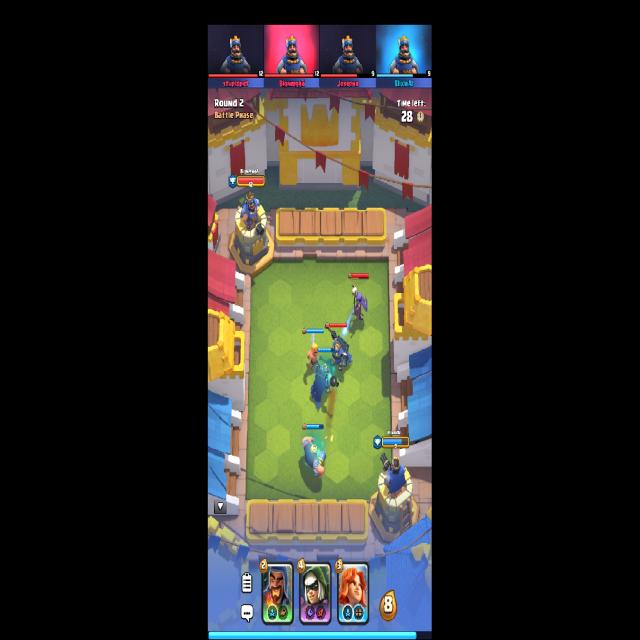barbarian: (307, 342, 320, 368)
card_bandit: (299, 562, 332, 625)
card_valkyrie: (338, 562, 369, 624)
card_wizard: (262, 562, 294, 623)
royal_giant: (302, 436, 326, 480)
skeleton_king: (326, 324, 352, 370), (313, 365, 337, 403)
witch: (352, 285, 368, 325)
